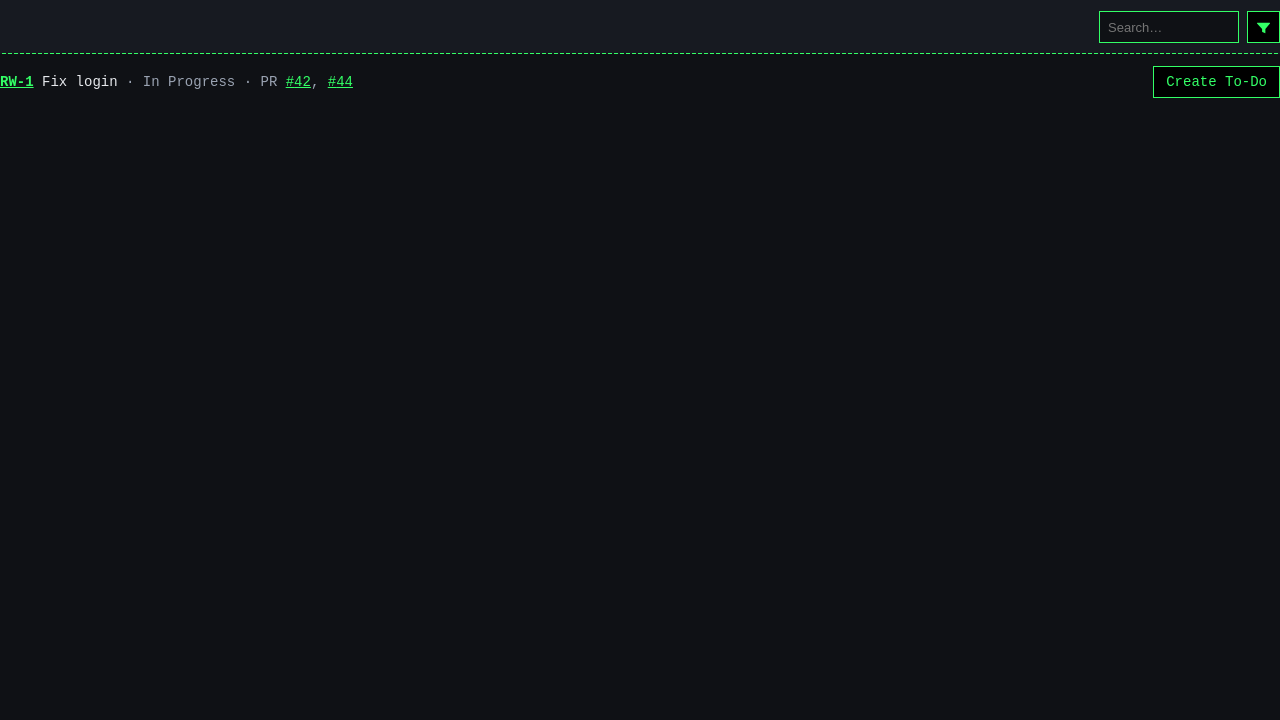
JiraPanel › filters rows by the search box
// Reveal both tickets first so search isn't masked by the status filter.
Click the button named "Filter by status".
click(1264, 27)  # box [1247,11,1279,43]
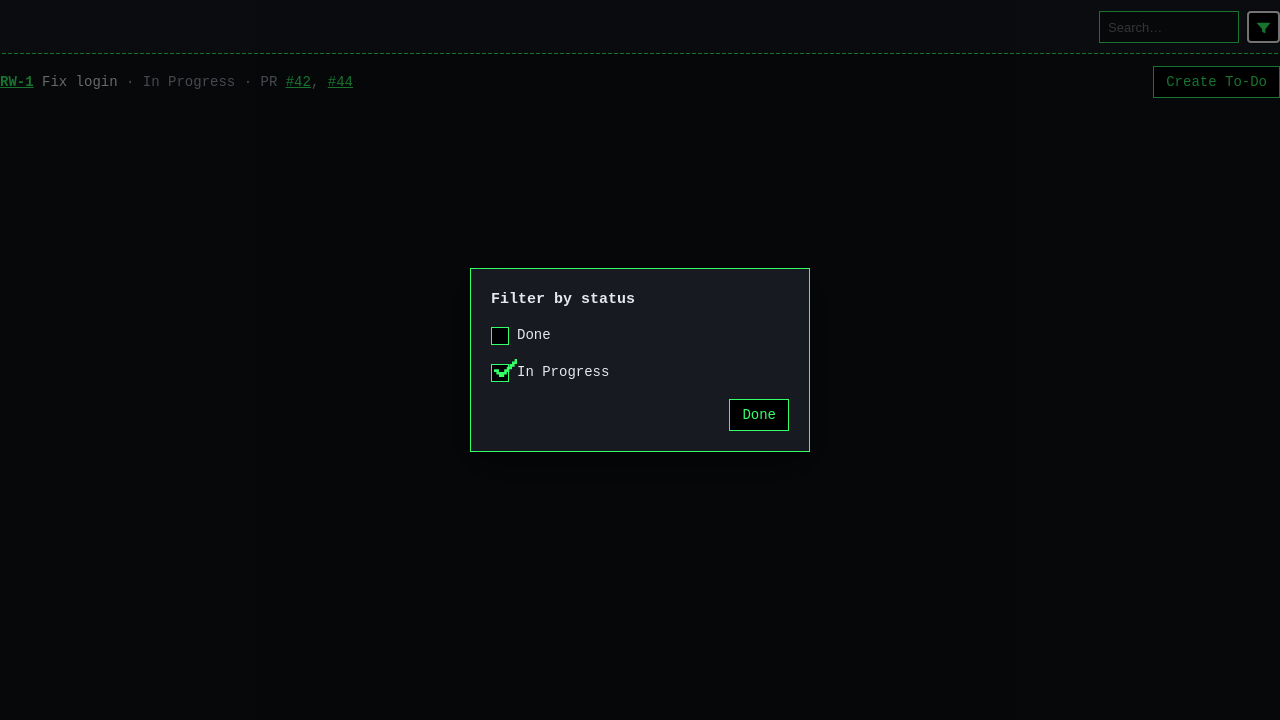
Click the checkbox labelled "Done".
click(500, 336)  # box [491,327,509,345]
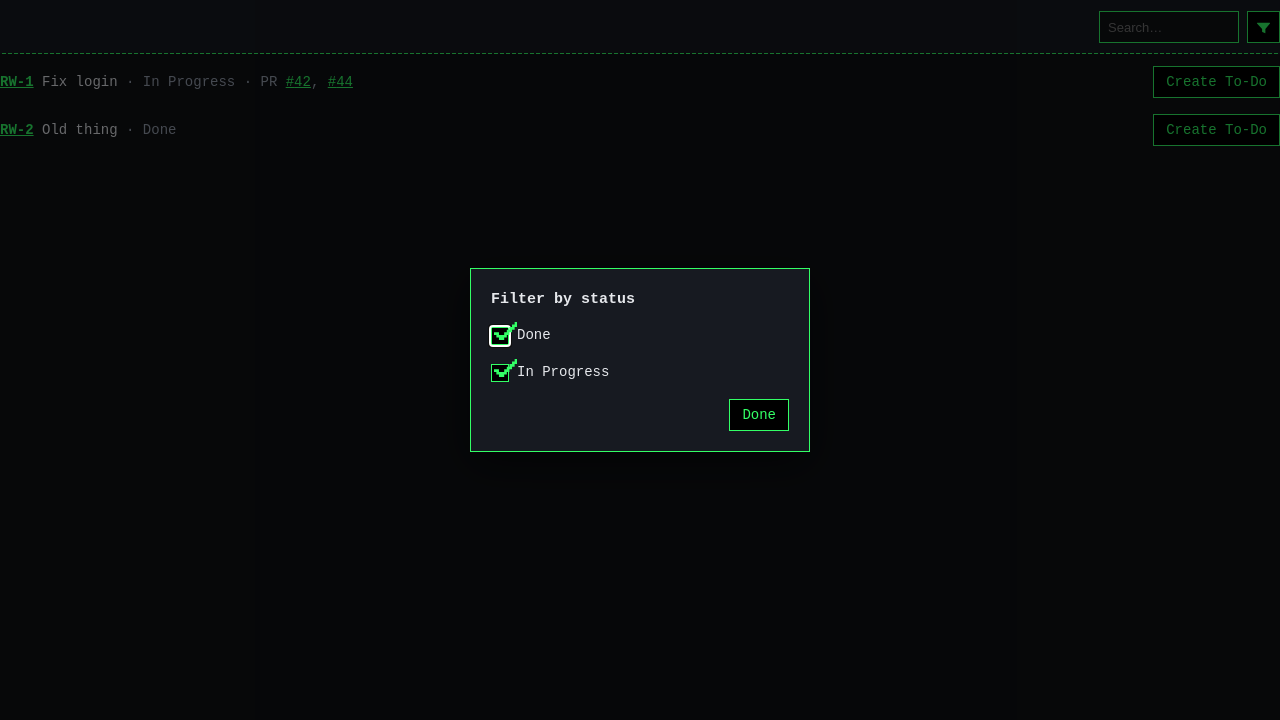
Click the button "Done".
click(759, 415)  # box [729,399,789,431]
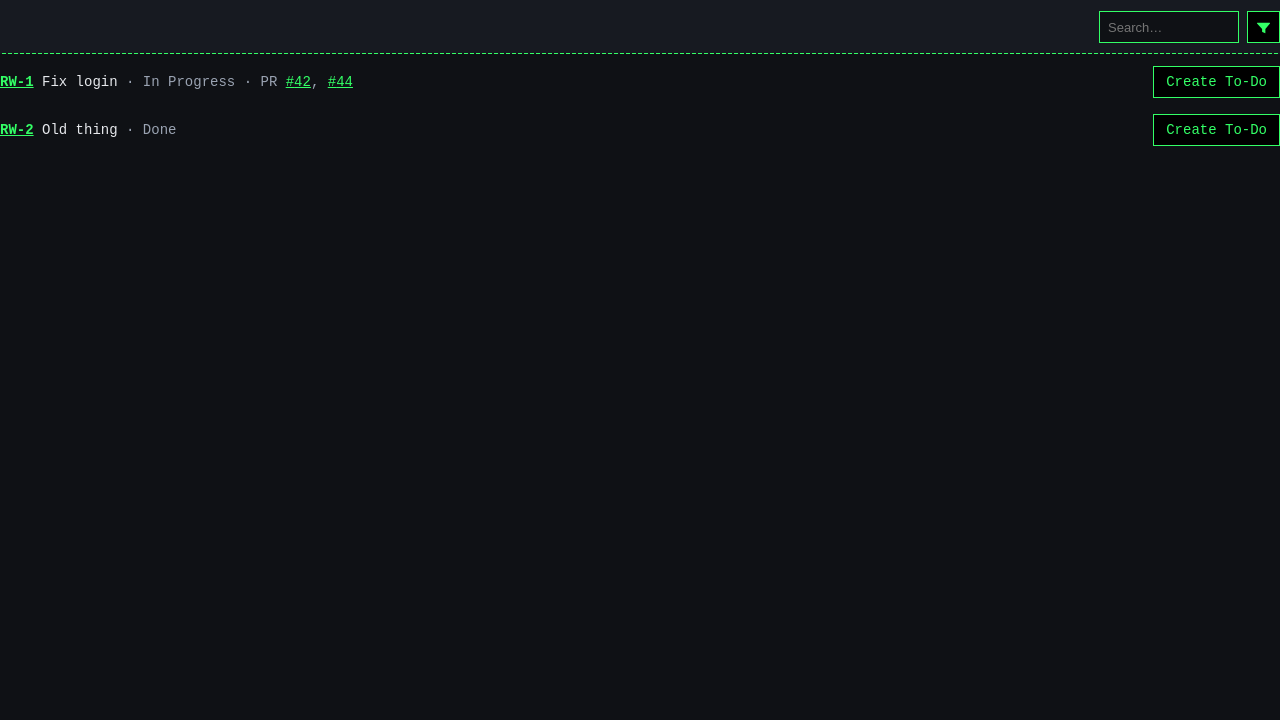
Type "old" into the search field named "Search tickets".
click(1169, 27); type("old")  # box [1099,11,1239,43]
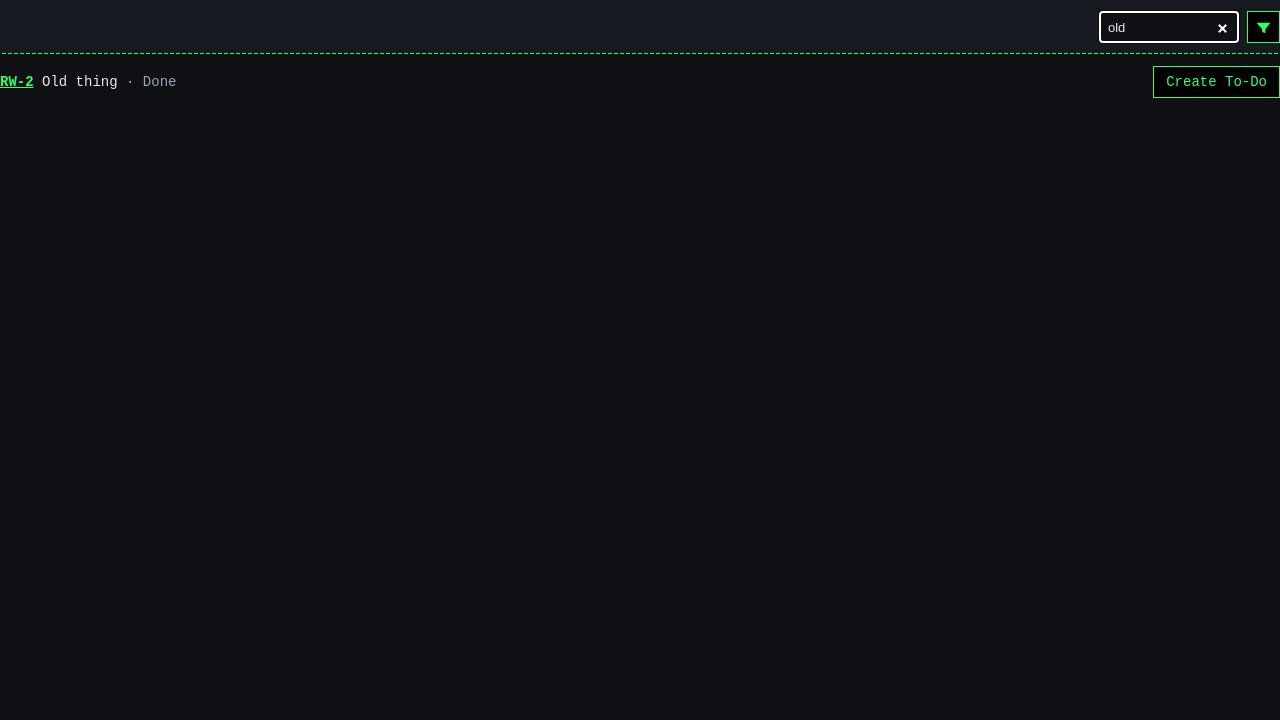
Now the text "Old thing" is shown, box [42,74,118,90]
Now the text "Fix login" is gone
